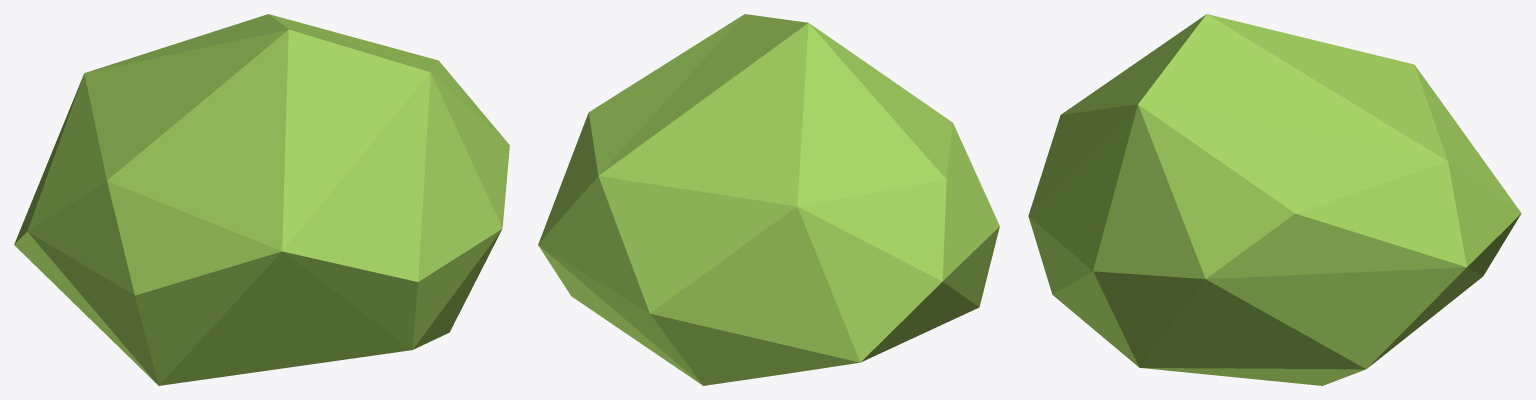
The model's file is Bush03.fbx.
3 renders of one model, left to right at view 1: azimuth 30°, elevation 25°; view 2: azimuth 150°, elevation 25°; view 3: azimuth 270°, elevation 25°, orthographic. The views are drawn at different scales.
Parts seen in each view (by area): view 1: Bush03.001; view 2: Bush03.001; view 3: Bush03.001.
Boxes of the visible parts, x1=… form: Bush03.001: x1=14, y1=14, x2=509, y2=385; Bush03.001: x1=538, y1=14, x2=999, y2=385; Bush03.001: x1=1028, y1=14, x2=1521, y2=385.
Size of the model in its own units: 111 by 87.74 by 116.
